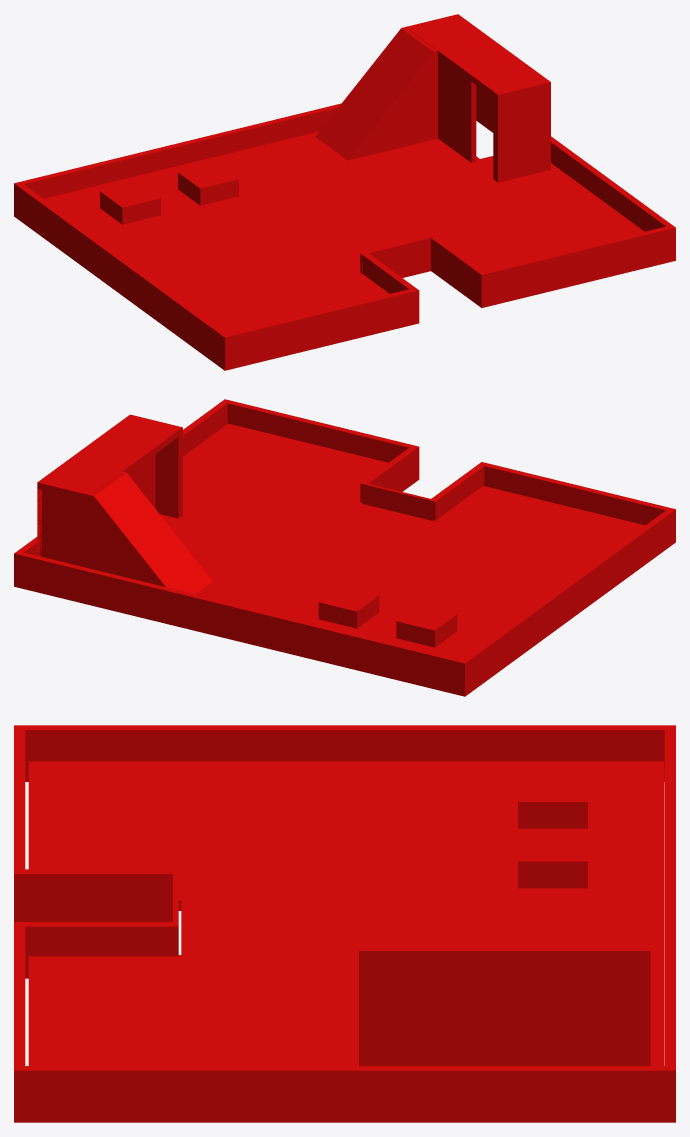
Rendered from SM_Bld_HighRise_Medium_01_Interior_Roof_01_Collision.fbx.
The picture shows the model from 3 angles, top to bottom: view 1: azimuth 30°, elevation 25°; view 2: azimuth 150°, elevation 25°; view 3: azimuth 270°, elevation 25°; orthographic projection. The views are drawn at different scales.
Parts seen in each view (by area): view 1: SM_Bld_HighRise_Medium_01_Interior_Roof_01_Collision; view 2: SM_Bld_HighRise_Medium_01_Interior_Roof_01_Collision; view 3: SM_Bld_HighRise_Medium_01_Interior_Roof_01_Collision.
Boxes of the visible parts, left/top/right/bottom form: SM_Bld_HighRise_Medium_01_Interior_Roof_01_Collision: left=14, top=14, right=675, bottom=370; SM_Bld_HighRise_Medium_01_Interior_Roof_01_Collision: left=14, top=399, right=675, bottom=696; SM_Bld_HighRise_Medium_01_Interior_Roof_01_Collision: left=14, top=725, right=675, bottom=1122.
Bounding box in the file's own units: 1338 × 289 × 1083.
